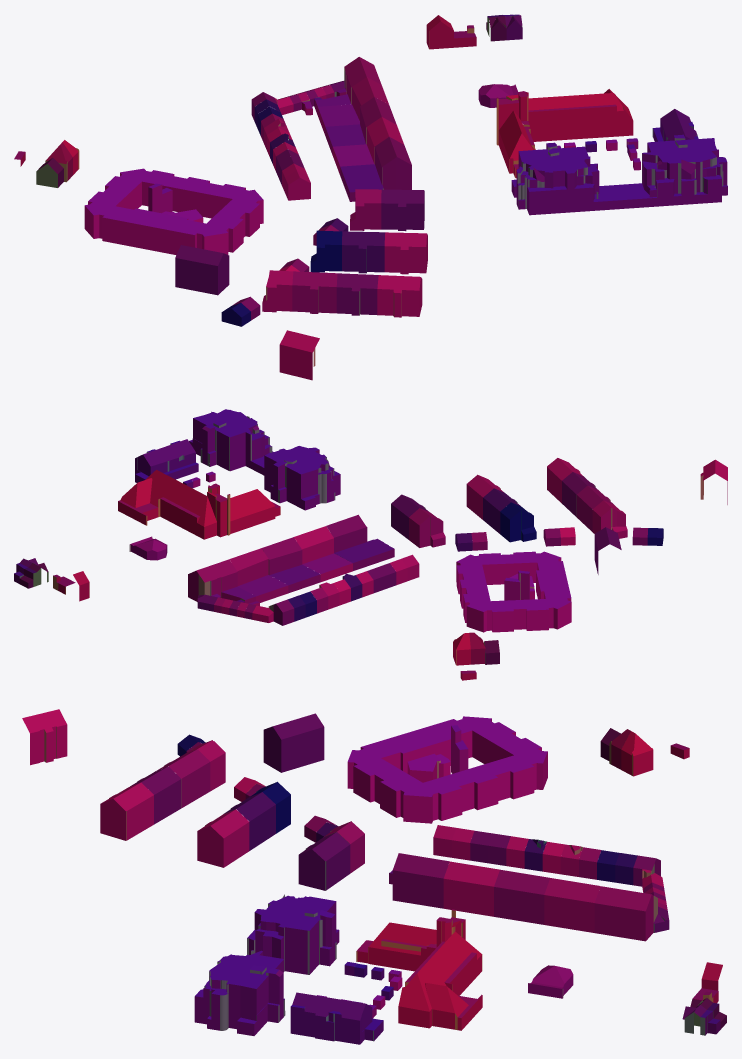
File: buildings_10_13.glb
3 renders of one model, top to bottom at view 1: azimuth 30°, elevation 25°; view 2: azimuth 150°, elevation 25°; view 3: azimuth 270°, elevation 25°, orthographic. The views are drawn at different scales.
Visible parts, largest first — view 1: buildings_10_13; view 2: buildings_10_13; view 3: buildings_10_13.
Boxes of the visible parts, box(x1,y1,x2,y2) form: buildings_10_13: box(14, 14, 727, 380); buildings_10_13: box(14, 409, 727, 680); buildings_10_13: box(22, 709, 726, 1044).
Bounding box in the file's own units: 212 × 17.78 × 212.
